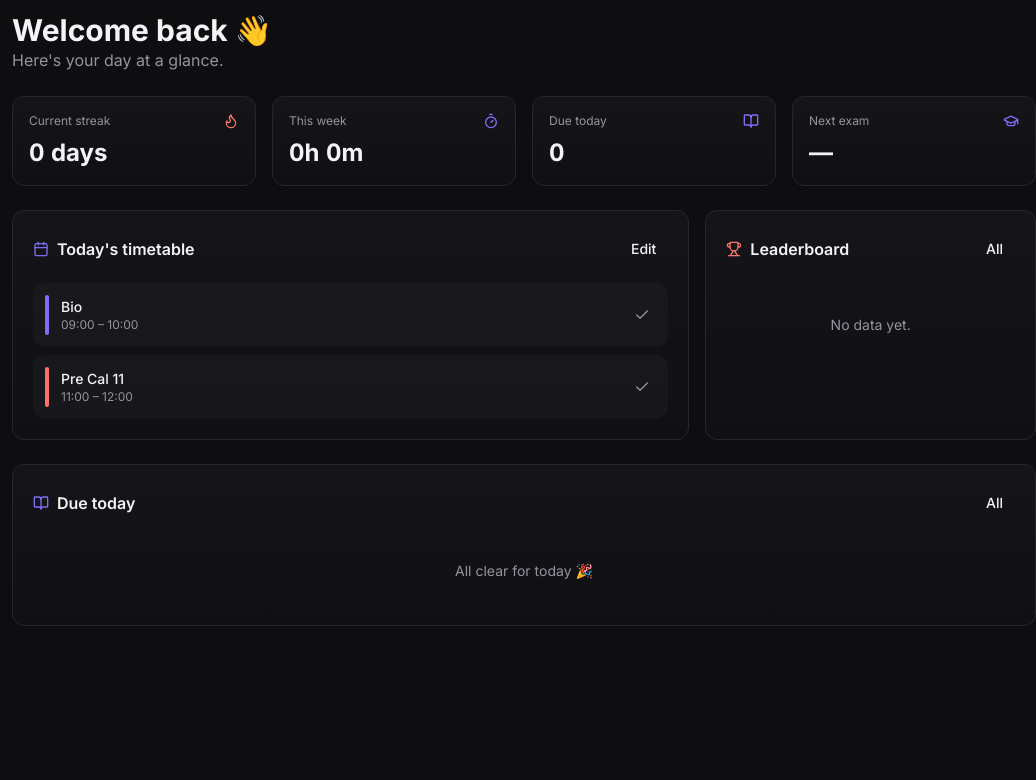
Dashboard timetable dismissal › hides a class for today and stores it under today's local date key
This screenshot has width=1036, height=780.
Check: the text "Bio" is shown, box [61,298,82,315]
Click the button named "Mark Bio as done for today". click: (642, 315)
box: [628,301,656,329]
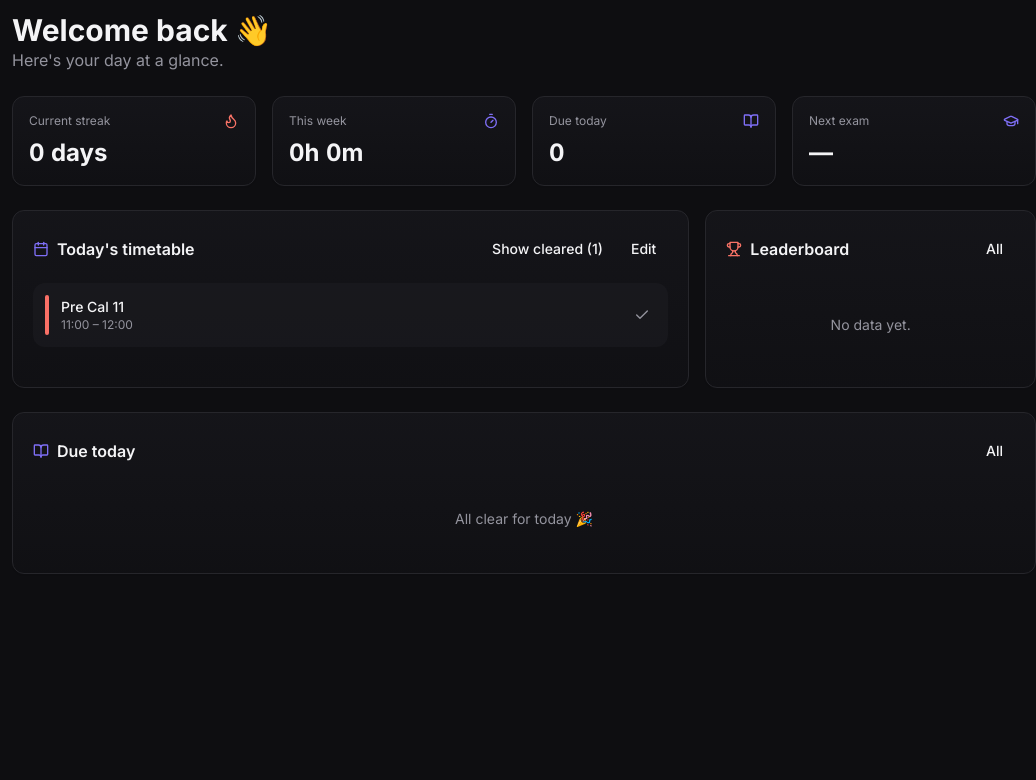
Check: the text "Pre Cal 11" is shown, box [61,298,124,315]
Check: the text "Bio" is gone
